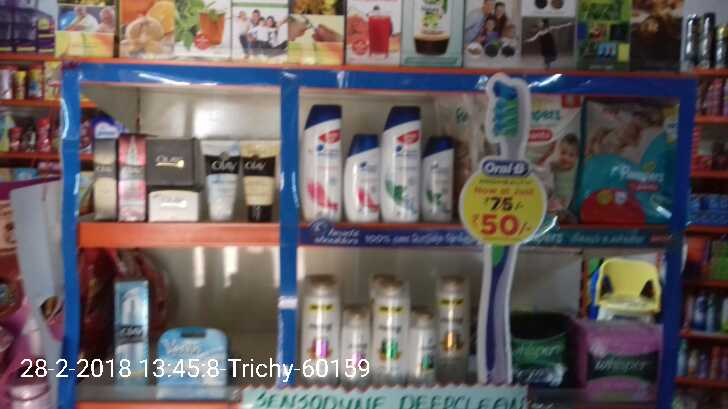venus: (158, 328, 230, 391)
